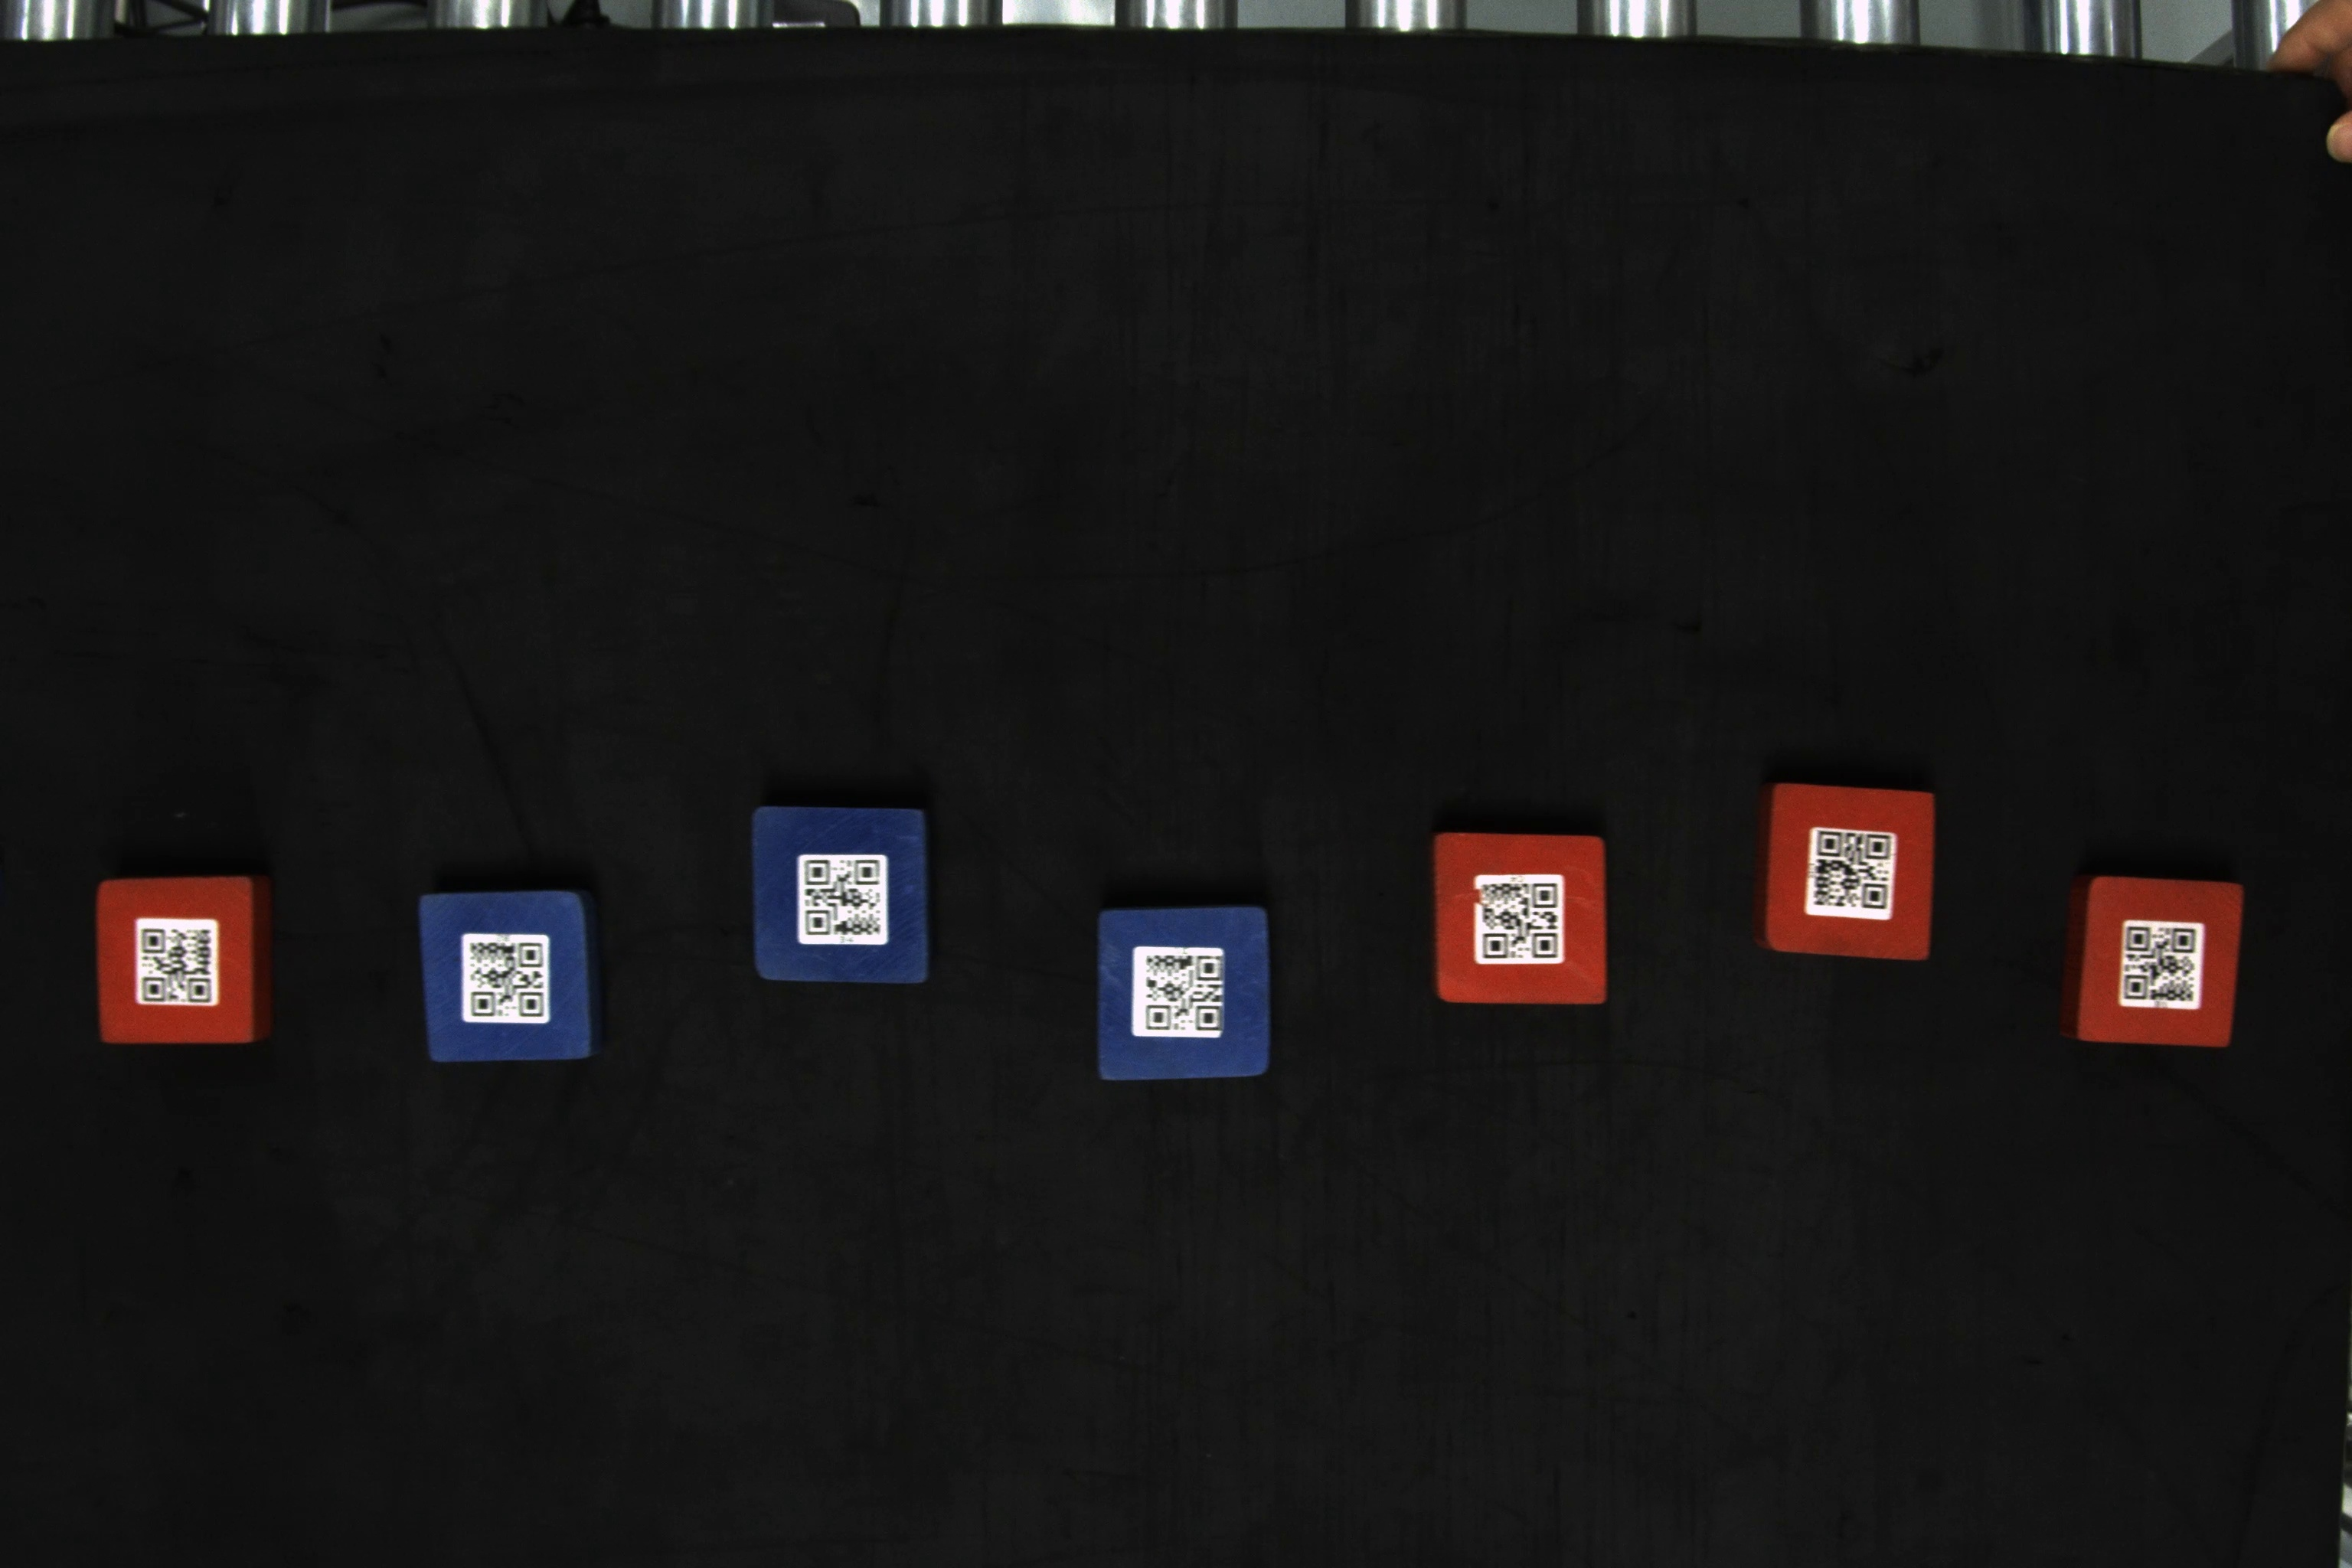wood: (1080, 894, 1286, 1090), (406, 870, 604, 1071), (742, 798, 943, 994), (1757, 772, 1948, 968), (87, 870, 283, 1057), (2065, 864, 2250, 1060), (1424, 826, 1615, 1015)
